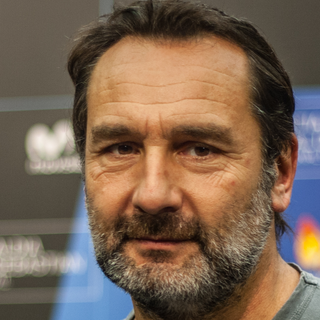eye: (173, 138, 228, 163), (103, 136, 146, 163)
